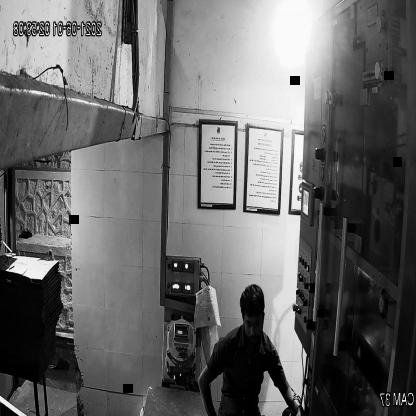no_goggles: (240, 310, 268, 335)
